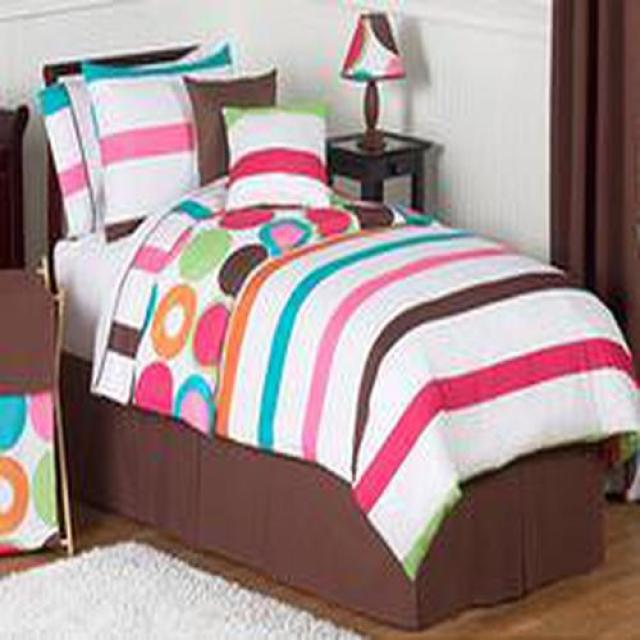bed: (36, 38, 640, 632)
